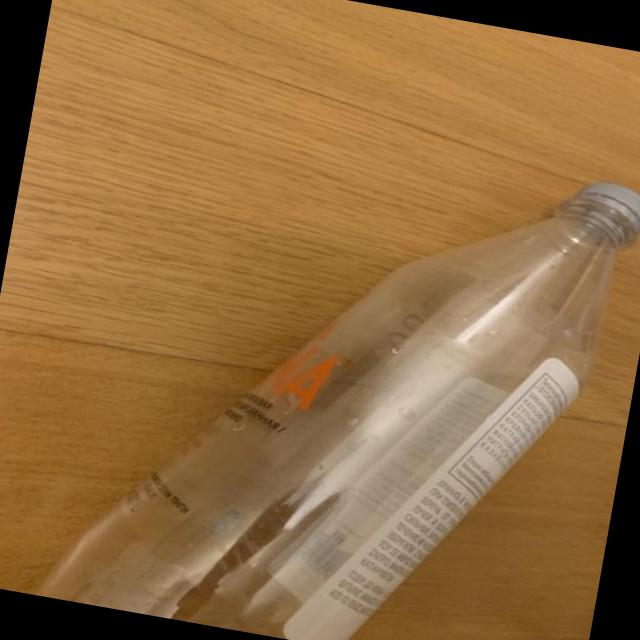plastic_bottle: (34, 95, 640, 640)
